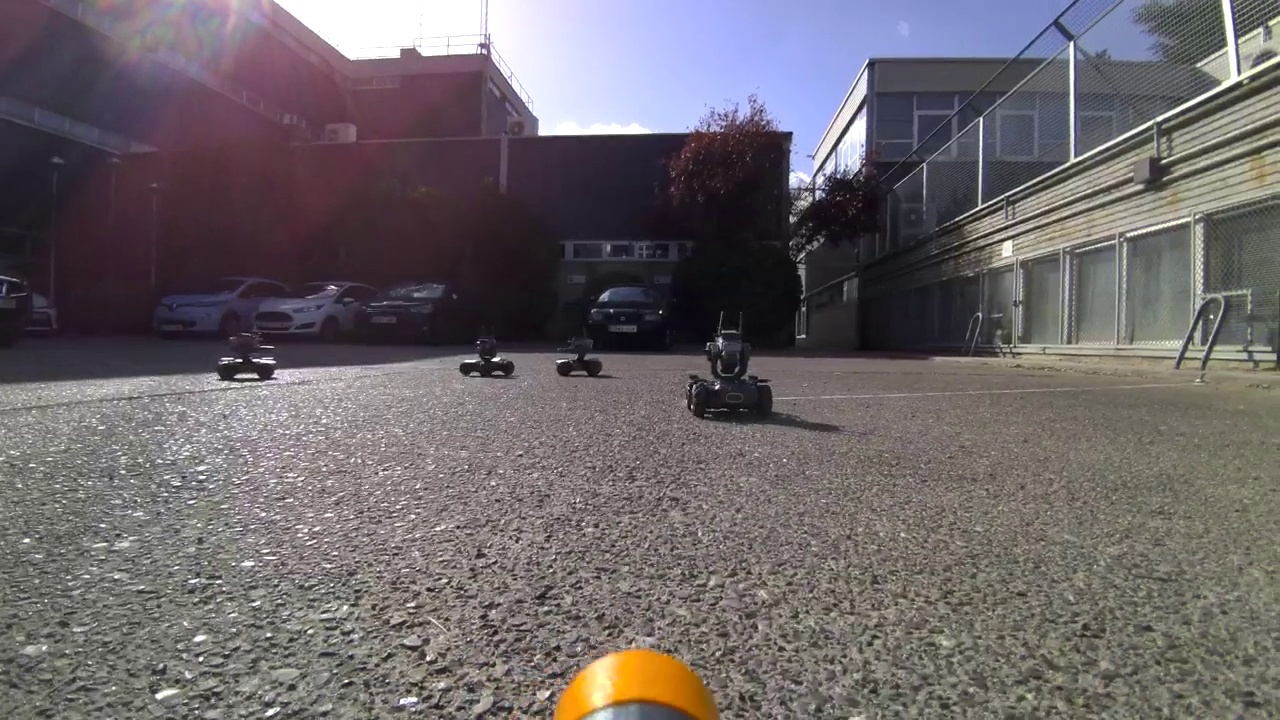robot: (675, 309, 788, 422), (212, 325, 287, 385), (545, 330, 618, 385), (457, 334, 519, 381)
